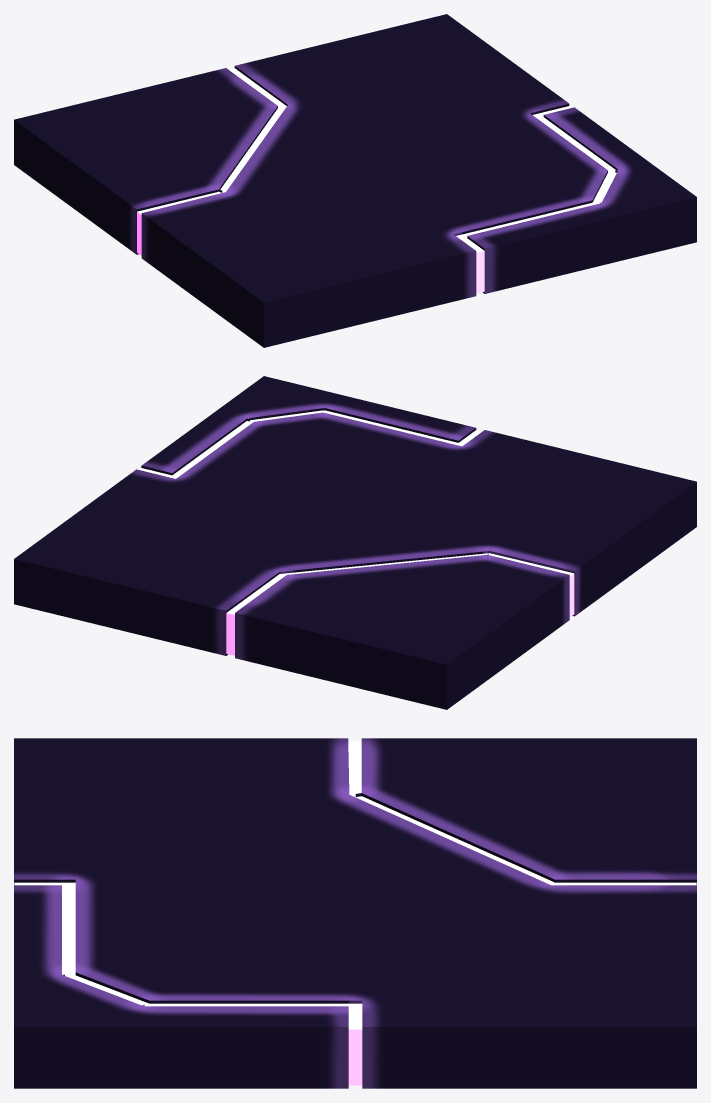
The model's file is Cyber Floor 2.glb.
The picture shows the model from 3 angles, top to bottom: view 1: azimuth 30°, elevation 25°; view 2: azimuth 150°, elevation 25°; view 3: azimuth 270°, elevation 25°; orthographic projection. The views are drawn at different scales.
Visible parts, largest first — view 1: polySurface16, pCube59; view 2: polySurface16, pCube59; view 3: polySurface16, pCube59.
Boxes of the visible parts, x1=… form: polySurface16: x1=14, y1=14, x2=696, y2=347; pCube59: x1=137, y1=68, x2=616, y2=293; polySurface16: x1=14, y1=376, x2=696, y2=709; pCube59: x1=139, y1=410, x2=574, y2=655; polySurface16: x1=14, y1=738, x2=696, y2=1088; pCube59: x1=14, y1=741, x2=696, y2=1085.
Bounding box in the file's own units: 1 × 0.1 × 1.
Materials: 2 (1 with a texture image).
